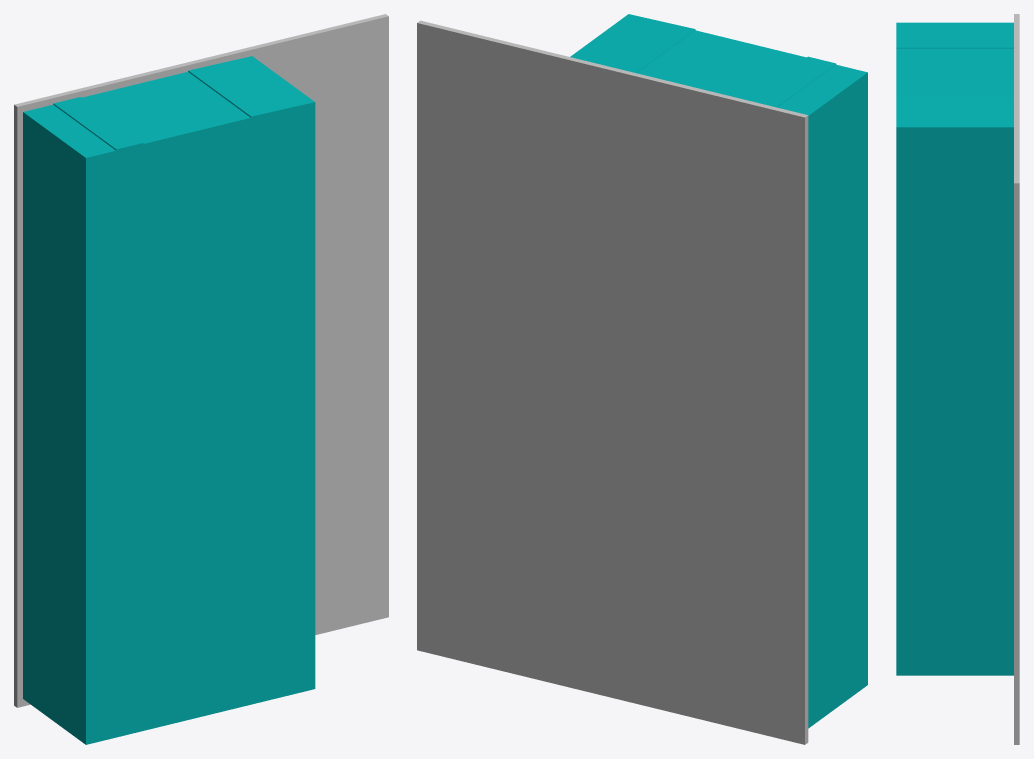
3 renders of one model, left to right at view 1: azimuth 30°, elevation 25°; view 2: azimuth 150°, elevation 25°; view 3: azimuth 270°, elevation 25°, orthographic. The views are drawn at different scales.
Parts seen in each view (by area): view 1: world; view 2: world; view 3: world.
Part boxes in pixels (left/top/right/bottom): world: left=14, top=14, right=388, bottom=744; world: left=417, top=14, right=867, bottom=744; world: left=896, top=14, right=1019, bottom=744.
Bounding box in the file's own units: 10.23 × 15.81 × 3.15.
